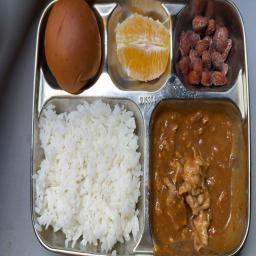100_bread: (43, 1, 104, 90)
100_nuts: (177, 5, 233, 94)
100_orange: (114, 7, 171, 85)
100_rice: (38, 100, 141, 252)
50_beef: (151, 104, 235, 241)
